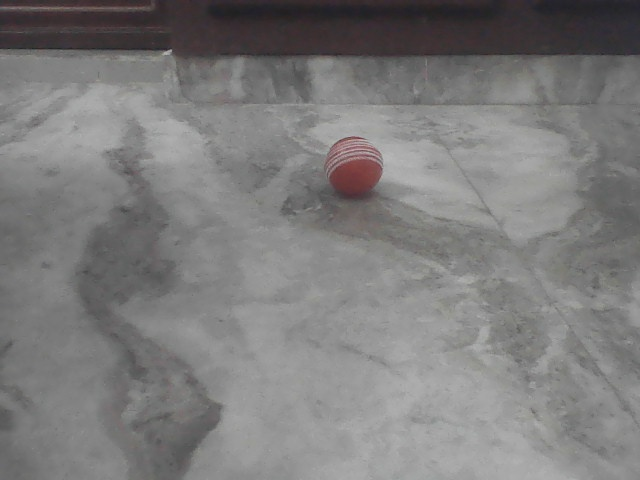cricket_ball: (320, 132, 390, 200)
